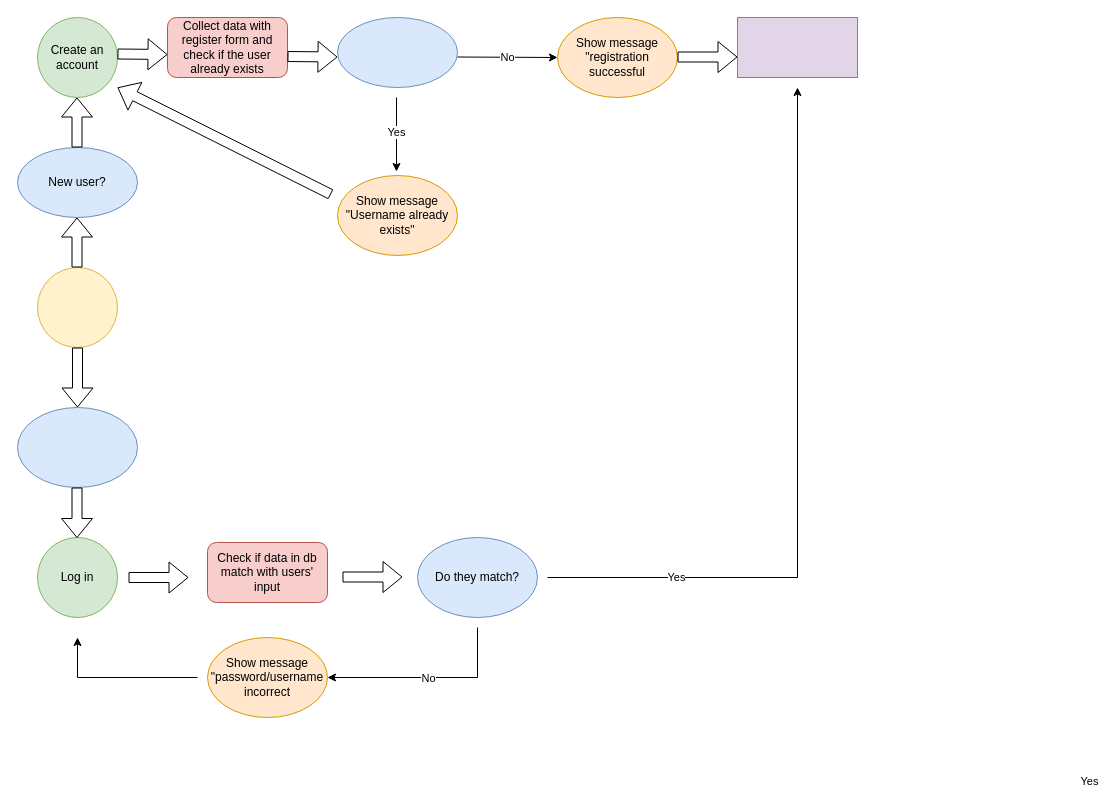
Some shapes in this 1115 by 805 pixel diagram are drawn without their labels. The shapes that lost their labels are listed below. From the top down, each one's box as (x1, y1, x2, y2) in pixels, then its label:
(336, 16, 458, 88): Username already exists?
(736, 16, 858, 78): Redirect to profile page
(36, 266, 118, 348): Start from home
(16, 406, 138, 488): Already have an account?
